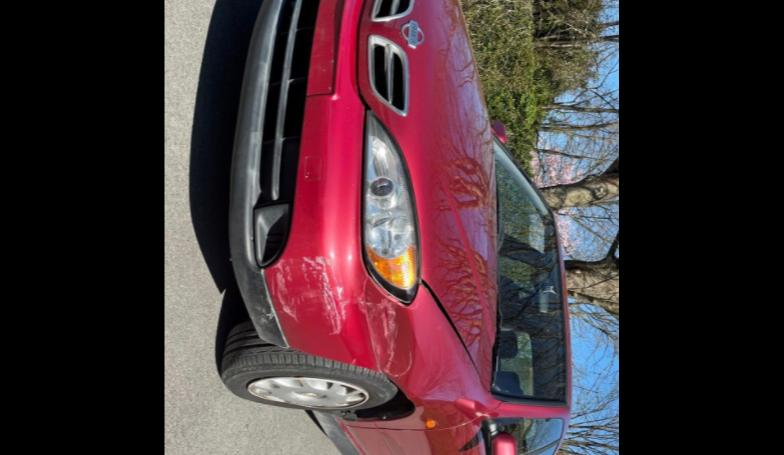Broken part: (418, 276, 477, 370), (354, 0, 372, 110)
Dent: (352, 278, 415, 388)
Flaking: (330, 58, 334, 63), (328, 86, 332, 90), (324, 68, 326, 72)
Paint chip: (350, 360, 356, 364)
Scratch: (376, 298, 412, 378), (316, 256, 342, 334), (276, 272, 300, 322), (368, 318, 382, 358), (358, 296, 376, 322), (302, 256, 322, 278), (324, 288, 336, 316), (272, 258, 286, 274), (326, 258, 336, 278), (340, 300, 350, 318), (262, 308, 274, 320), (336, 286, 342, 298), (302, 264, 308, 272), (284, 266, 290, 274), (304, 272, 308, 282), (272, 274, 274, 294), (262, 316, 268, 322), (288, 274, 290, 280), (308, 284, 310, 288), (290, 272, 292, 275)
